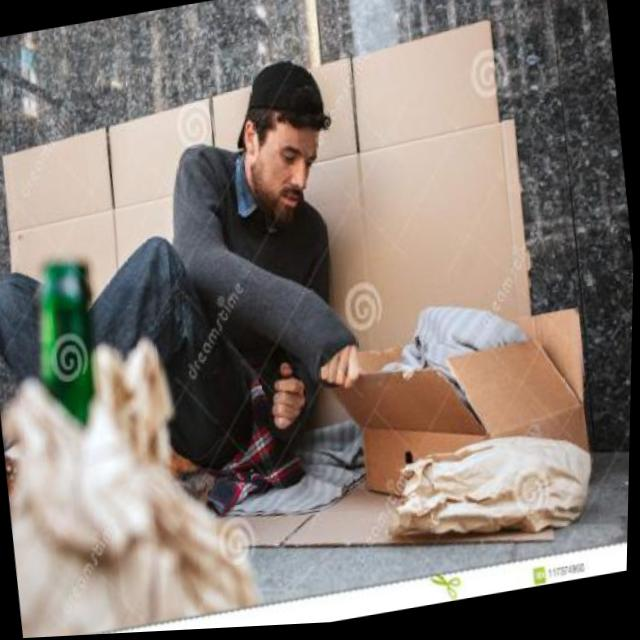box: (322, 297, 634, 547)
